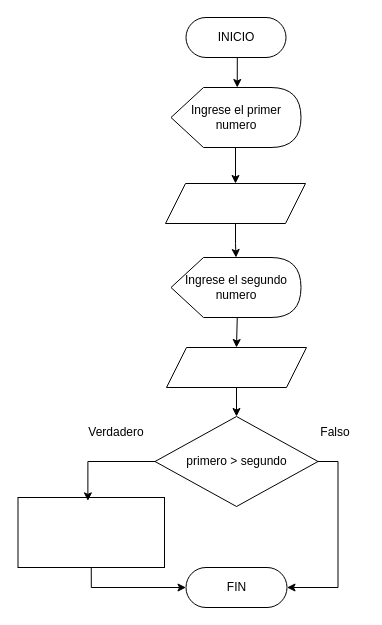
The diagram is 382 pixels wide and 625 high, and some of its shapes have lost their labels. Each missing label, with the box of its shape:
comodin = primero primero = segundo segundo = comodin: (17, 496, 164, 568)
primero: (164, 182, 306, 224)
segundo: (166, 346, 306, 388)
